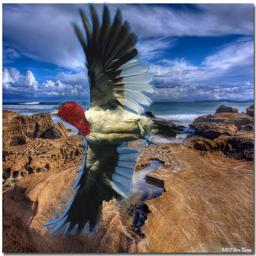Woodpecker: (43, 2, 195, 238)
